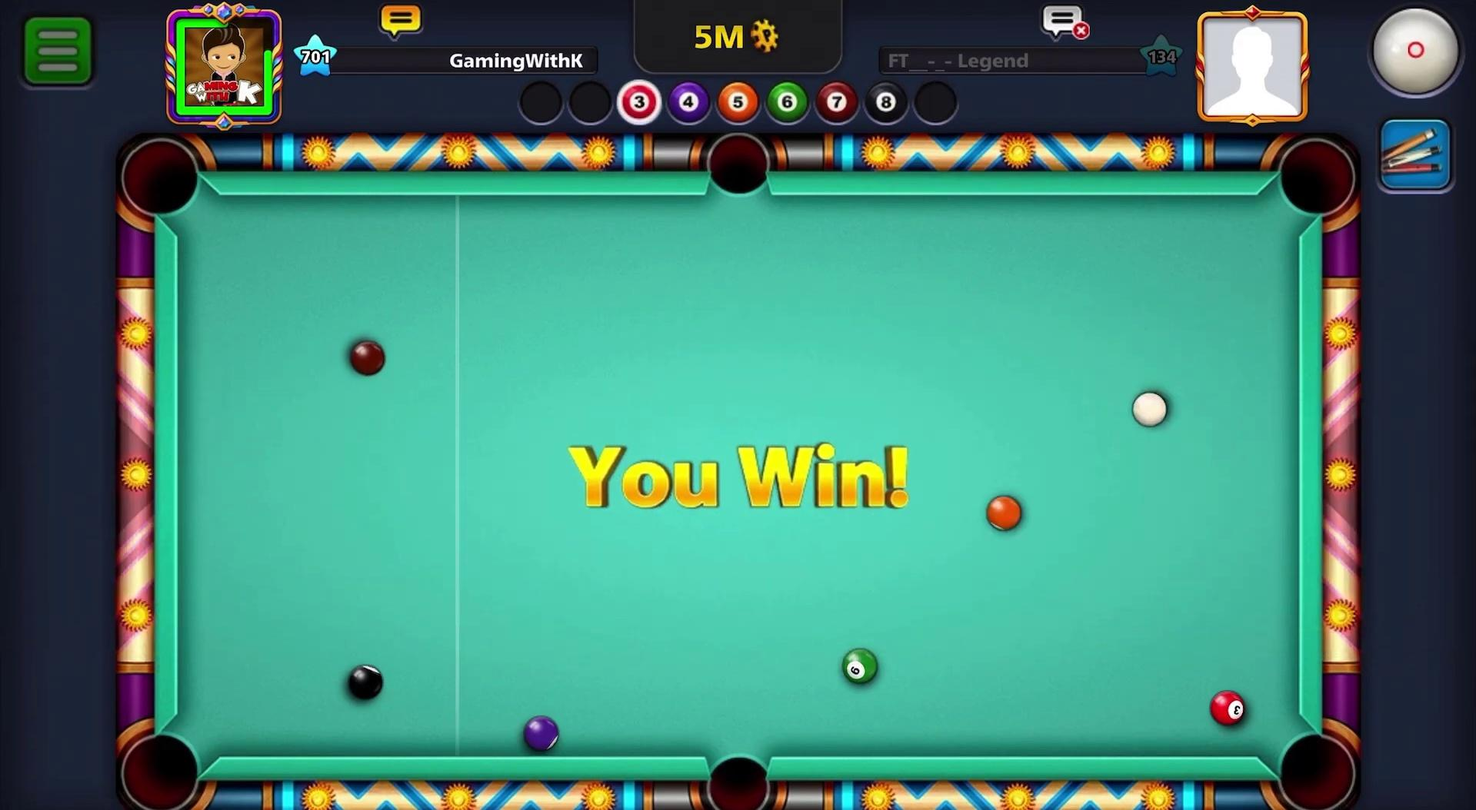Ball: (835, 643, 881, 692), (339, 662, 389, 704), (341, 337, 391, 378), (983, 491, 1025, 535), (518, 713, 562, 753), (1209, 689, 1247, 724)
Hole: (108, 712, 219, 809), (1263, 712, 1365, 809), (1268, 132, 1364, 231), (114, 130, 207, 225), (688, 743, 787, 809), (703, 126, 774, 201)
Play_Area: (173, 194, 1302, 759)
Spin: (1352, 1, 1475, 113)
White: (1128, 386, 1173, 432)
